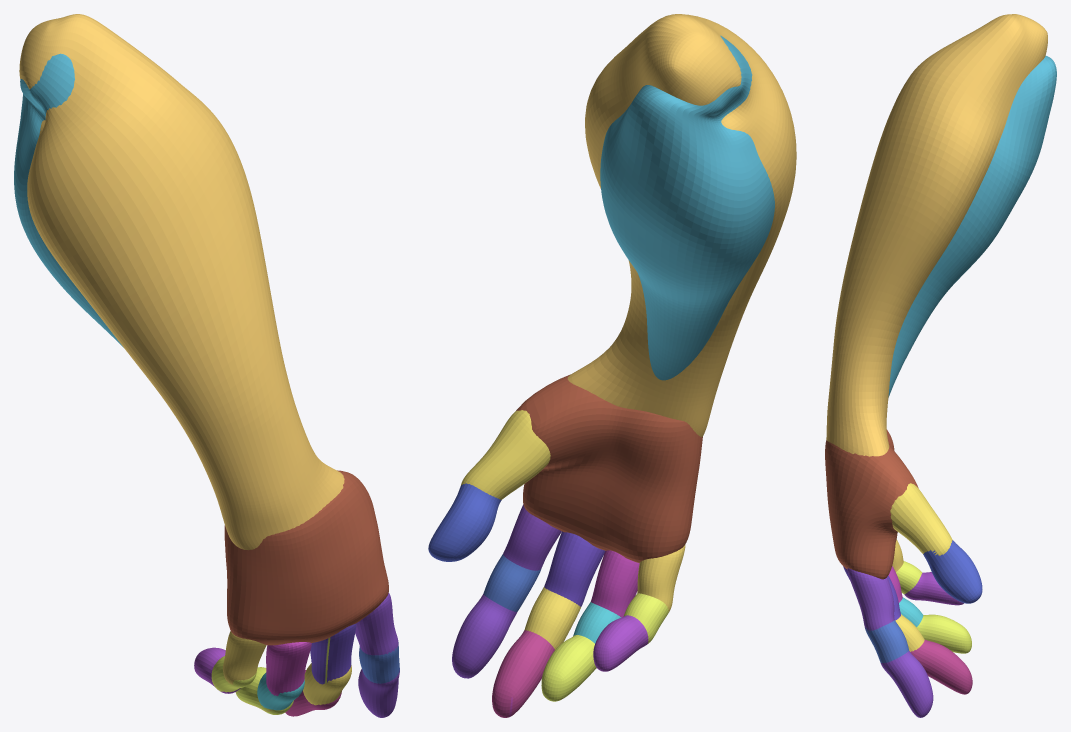
Rendered from wrist1.glb.
3 views of the same model, side by side, from view 1: azimuth 30°, elevation 25°; view 2: azimuth 150°, elevation 25°; view 3: azimuth 270°, elevation 25° (orthographic). The views are drawn at different scales.
Visible parts, largest first — view 1: WristArm, Hand; view 2: WristArm, Hand; view 3: WristArm, Hand.
Boxes of the visible parts, x1,y1,x2,y2 form: WristArm: (14,14,344,550); Hand: (194,470,399,717); WristArm: (567,14,796,436); Hand: (428,374,702,717); WristArm: (826,14,1056,456); Hand: (825,429,982,717).
Size of the model in its own units: 0.5299 by 1.09 by 0.3835.
1 material, 1 textured.
